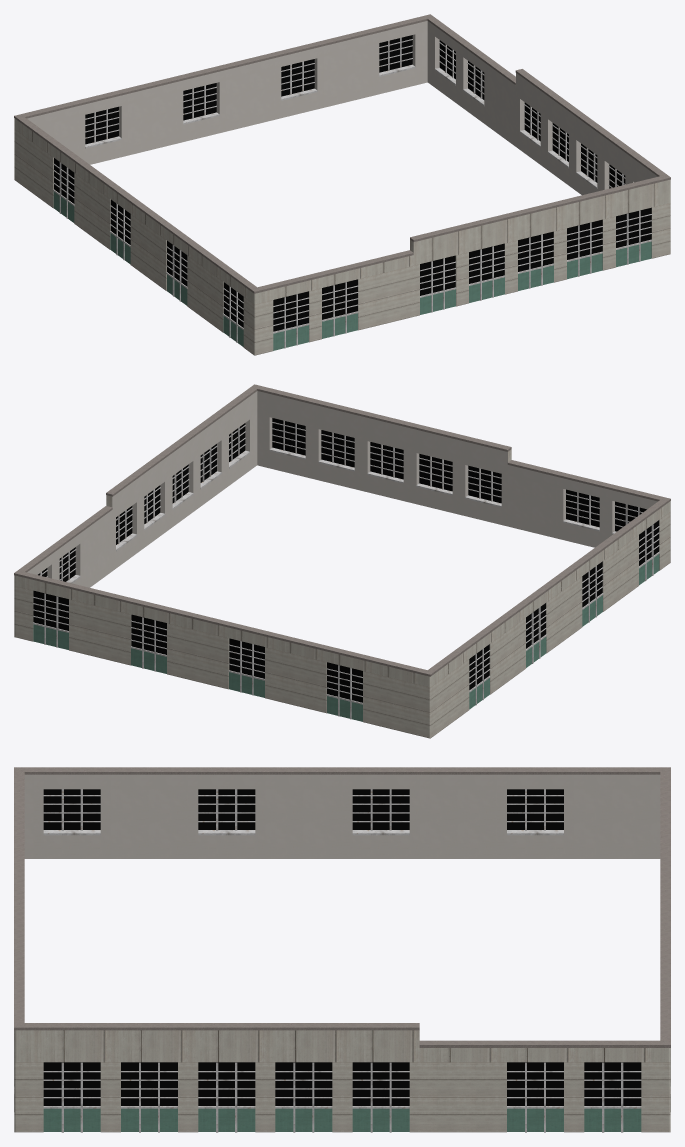
Rendered from BuildingD_Top_VarB.fbx.
3 views of the same model, one above another, from view 1: azimuth 30°, elevation 25°; view 2: azimuth 150°, elevation 25°; view 3: azimuth 270°, elevation 25° (orthographic). The views are drawn at different scales.
Parts seen in each view (by area): view 1: BuildingD_Top_VarB; view 2: BuildingD_Top_VarB; view 3: BuildingD_Top_VarB.
Boxes of the visible parts, x1=… form: BuildingD_Top_VarB: x1=14, y1=14, x2=670, y2=355; BuildingD_Top_VarB: x1=14, y1=384, x2=670, y2=738; BuildingD_Top_VarB: x1=14, y1=767, x2=670, y2=1132.
Size of the model in its own units: 3404 by 600 by 3404.
